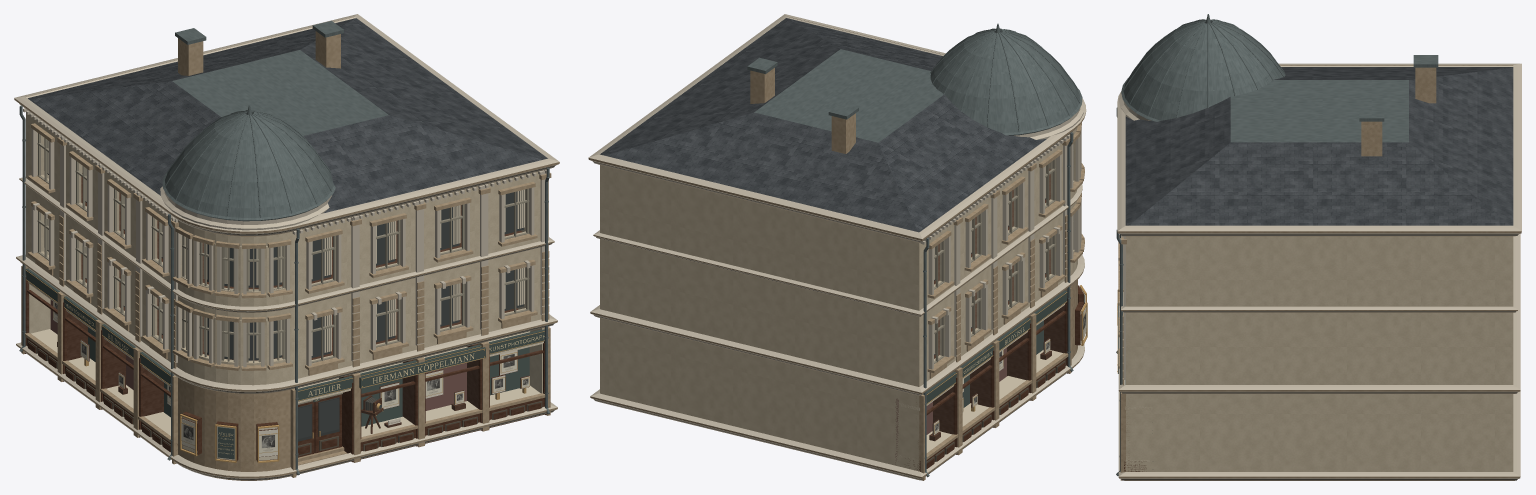
File: atelier32.glb
3 views of the same model, side by side, from view 1: azimuth 30°, elevation 25°; view 2: azimuth 150°, elevation 25°; view 3: azimuth 270°, elevation 25° (orthographic). The views are drawn at different scales.
Visible parts, largest first — view 1: Architektur_Dach, Architektur_Gesims, Architektur_Kalk, Architektur_Werkstein, Eckhaube_Blech, Atelier_Auslage_Holz, Architektur_Fensterholz, Architektur_Blech, Atelier_Auslage_Tafel, Fassadenrelief_Gesims, Architektur_Dunkel, Architektur_Leinen (+17 smaller); view 2: Architektur_Kalk, Architektur_Dach, Architektur_Gesims, Architektur_Werkstein, Eckhaube_Blech, Architektur_Blech, Atelier_Auslage_Holz, Fassadenrelief_Gesims, Architektur_Fensterholz, Dachdetails_Blech, Atelier_Auslage_Tafel, Dachdetails_Werkstein (+6 smaller); view 3: Architektur_Kalk, Architektur_Dach, Architektur_Gesims, Eckhaube_Blech, Architektur_Blech, Architektur_Werkstein, Architektur_Nut, Dachdetails_Werkstein, Dachdetails_Blech.
Boxes of the visible parts, x1,y1,x2,y2 form: Architektur_Dach: (28, 18, 547, 212); Architektur_Gesims: (14, 14, 559, 480); Architektur_Kalk: (26, 112, 544, 393); Architektur_Werkstein: (14, 17, 559, 480); Eckhaube_Blech: (162, 105, 335, 221); Atelier_Auslage_Holz: (24, 274, 546, 475); Architektur_Fensterholz: (37, 133, 529, 363); Architektur_Blech: (172, 50, 388, 135); Atelier_Auslage_Tafel: (25, 268, 544, 426); Fassadenrelief_Gesims: (23, 108, 548, 362); Architektur_Dunkel: (47, 173, 523, 360); Architektur_Leinen: (44, 138, 524, 358); Architektur_Kalk: (600, 127, 1077, 470); Architektur_Dach: (600, 18, 1046, 232); Architektur_Gesims: (588, 14, 1086, 480); Architektur_Werkstein: (588, 17, 1085, 480); Eckhaube_Blech: (930, 23, 1082, 135); Architektur_Blech: (754, 49, 943, 142); Atelier_Auslage_Holz: (908, 296, 1068, 471); Fassadenrelief_Gesims: (920, 135, 1070, 356); Architektur_Fensterholz: (934, 143, 1073, 363); Dachdetails_Blech: (747, 57, 1073, 477); Atelier_Auslage_Tafel: (923, 290, 1067, 407); Dachdetails_Werkstein: (750, 68, 855, 153); Architektur_Kalk: (1126, 236, 1513, 471); Architektur_Dach: (1125, 67, 1513, 225); Architektur_Gesims: (1117, 63, 1521, 480); Eckhaube_Blech: (1121, 14, 1285, 121); Architektur_Blech: (1230, 80, 1408, 142); Architektur_Werkstein: (1117, 65, 1521, 480); Architektur_Nut: (1121, 234, 1518, 479); Dachdetails_Werkstein: (1361, 67, 1436, 156); Dachdetails_Blech: (1116, 55, 1438, 475).
Size of the model in its own units: 16.21 by 15.3 by 16.51.
Materials: 18 (6 with a texture image).
